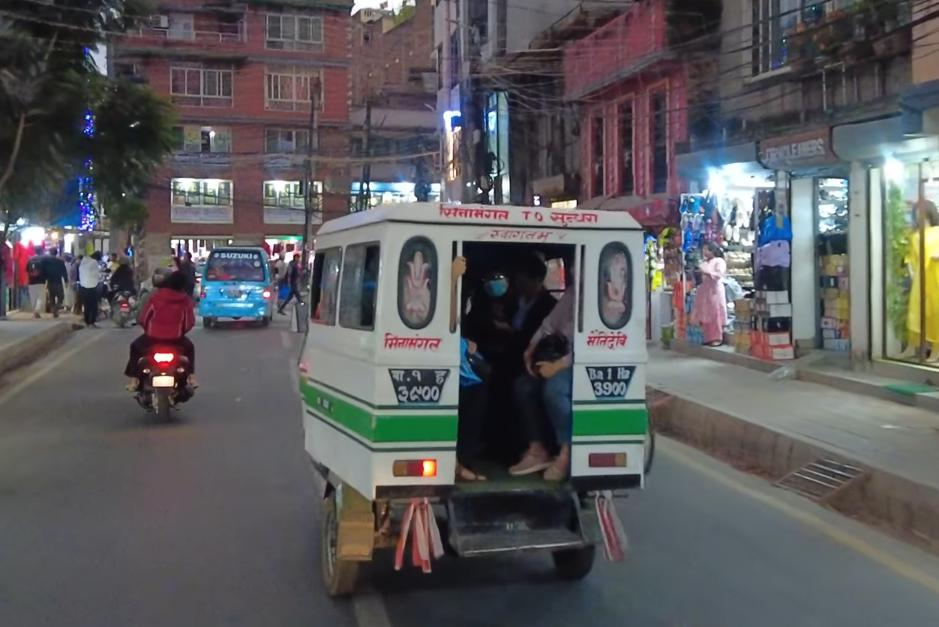bike: (125, 312, 199, 422)
tempo: (279, 199, 661, 597)
van: (203, 243, 276, 333)
